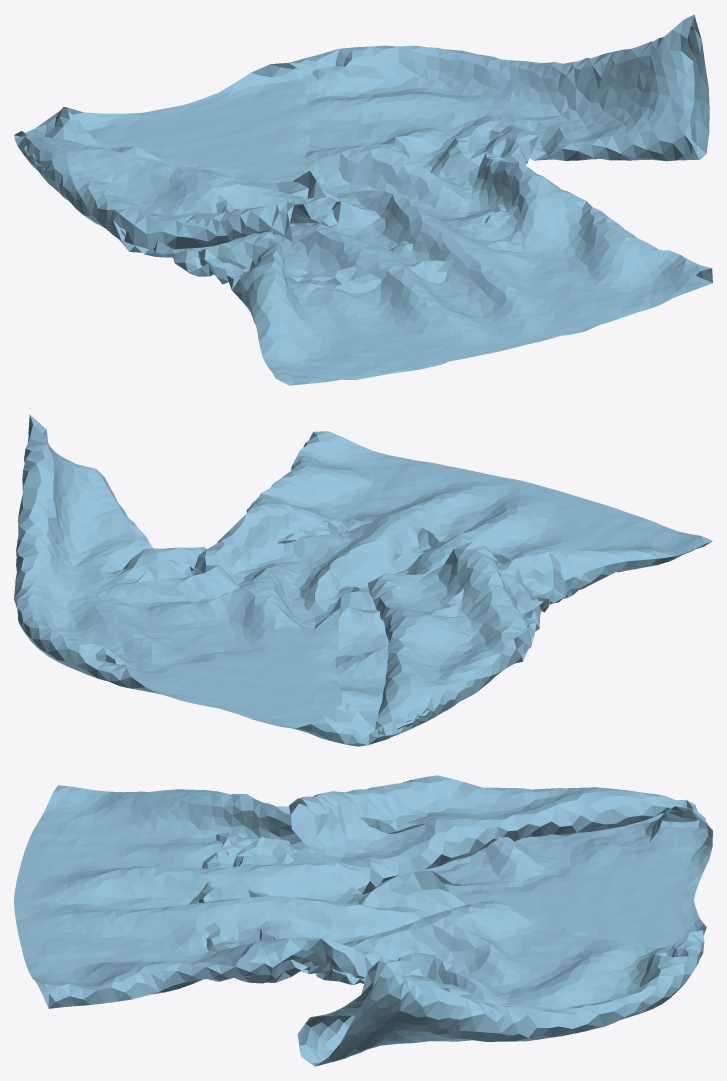
Rendered from frame_04.glb.
3 renders of one model, top to bottom at view 1: azimuth 30°, elevation 25°; view 2: azimuth 150°, elevation 25°; view 3: azimuth 270°, elevation 25°, orthographic. The views are drawn at different scales.
Parts seen in each view (by area): view 1: frame_04.obj; view 2: frame_04.obj; view 3: frame_04.obj.
Boxes of the visible parts, x1=… form: frame_04.obj: x1=14, y1=15, x2=712, y2=385; frame_04.obj: x1=14, y1=414, x2=712, y2=746; frame_04.obj: x1=14, y1=775, x2=712, y2=1066.
Bounding box in the file's own units: 1.55 × 0.3143 × 1.58.
